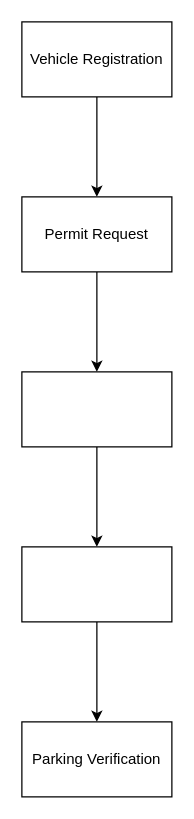
Some shapes in this 194 by 819 pixel diagram are drawn without their labels. The shapes that lost their labels are listed below. From the top down, each one's centre as x and y in pixels, then its label:
At (96,409): "Zone Check".
At (96,584): "Permit Approval".
